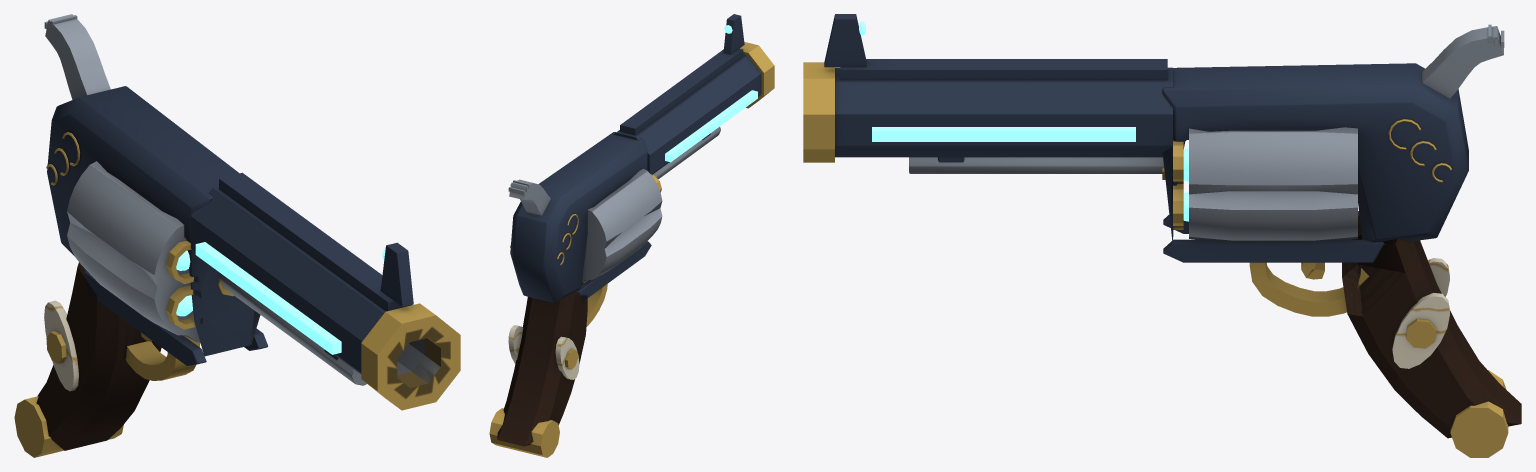
File: revolver_estelar.fbx
The picture shows the model from 3 angles, left to right: view 1: azimuth 30°, elevation 25°; view 2: azimuth 150°, elevation 25°; view 3: azimuth 270°, elevation 25°; orthographic projection. The views are drawn at different scales.
Parts seen in each view (by area): view 1: RevolverEstelar_Canon, RevolverEstelar_Cuerpo, RevolverEstelar_Tambor, RevolverEstelar_Grip, RevolverEstelar_Martillo, RevolverEstelar_Neon_03, RevolverEstelar_Detalle_01, RevolverEstelar_Gatillo, RevolverEstelar_Neon_01; view 2: RevolverEstelar_Cuerpo, RevolverEstelar_Grip, RevolverEstelar_Canon, RevolverEstelar_Tambor, RevolverEstelar_Neon_03, RevolverEstelar_Detalle_01, RevolverEstelar_Martillo, RevolverEstelar_Gatillo; view 3: RevolverEstelar_Cuerpo, RevolverEstelar_Canon, RevolverEstelar_Tambor, RevolverEstelar_Grip, RevolverEstelar_Neon_03, RevolverEstelar_Detalle_01, RevolverEstelar_Gatillo, RevolverEstelar_Martillo.
Part boxes in pixels (left/top/right/bottom): RevolverEstelar_Canon: left=191, top=172, right=460, bottom=410; RevolverEstelar_Cuerpo: left=46, top=86, right=366, bottom=385; RevolverEstelar_Tambor: left=67, top=161, right=260, bottom=342; RevolverEstelar_Grip: left=14, top=262, right=161, bottom=457; RevolverEstelar_Martillo: left=44, top=14, right=110, bottom=99; RevolverEstelar_Neon_03: left=195, top=242, right=414, bottom=354; RevolverEstelar_Detalle_01: left=44, top=300, right=78, bottom=391; RevolverEstelar_Gatillo: left=125, top=332, right=200, bottom=380; RevolverEstelar_Neon_01: left=176, top=250, right=192, bottom=316; RevolverEstelar_Cuerpo: left=510, top=126, right=720, bottom=302; RevolverEstelar_Grip: left=489, top=283, right=587, bottom=457; RevolverEstelar_Canon: left=614, top=14, right=774, bottom=174; RevolverEstelar_Tambor: left=582, top=168, right=662, bottom=282; RevolverEstelar_Neon_03: left=616, top=90, right=757, bottom=162; RevolverEstelar_Detalle_01: left=508, top=325, right=579, bottom=379; RevolverEstelar_Martillo: left=508, top=179, right=550, bottom=215; RevolverEstelar_Gatillo: left=583, top=280, right=607, bottom=326; RevolverEstelar_Cuerpo: left=909, top=63, right=1468, bottom=262; RevolverEstelar_Canon: left=803, top=14, right=1172, bottom=162; RevolverEstelar_Tambor: left=1162, top=127, right=1357, bottom=240; RevolverEstelar_Grip: left=1342, top=215, right=1521, bottom=457; RevolverEstelar_Neon_03: left=872, top=127, right=1135, bottom=141; RevolverEstelar_Detalle_01: left=1392, top=258, right=1449, bottom=368; RevolverEstelar_Gatillo: left=1249, top=262, right=1369, bottom=316; RevolverEstelar_Martillo: left=1422, top=24, right=1504, bottom=98.
Bounding box in the file's own units: 0.0816 × 0.247 × 0.3808.
Materials: 4 (1 with a texture image).
